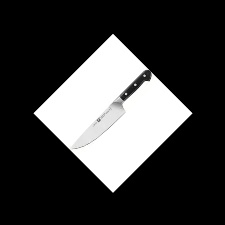k1: (69, 90, 128, 149)
